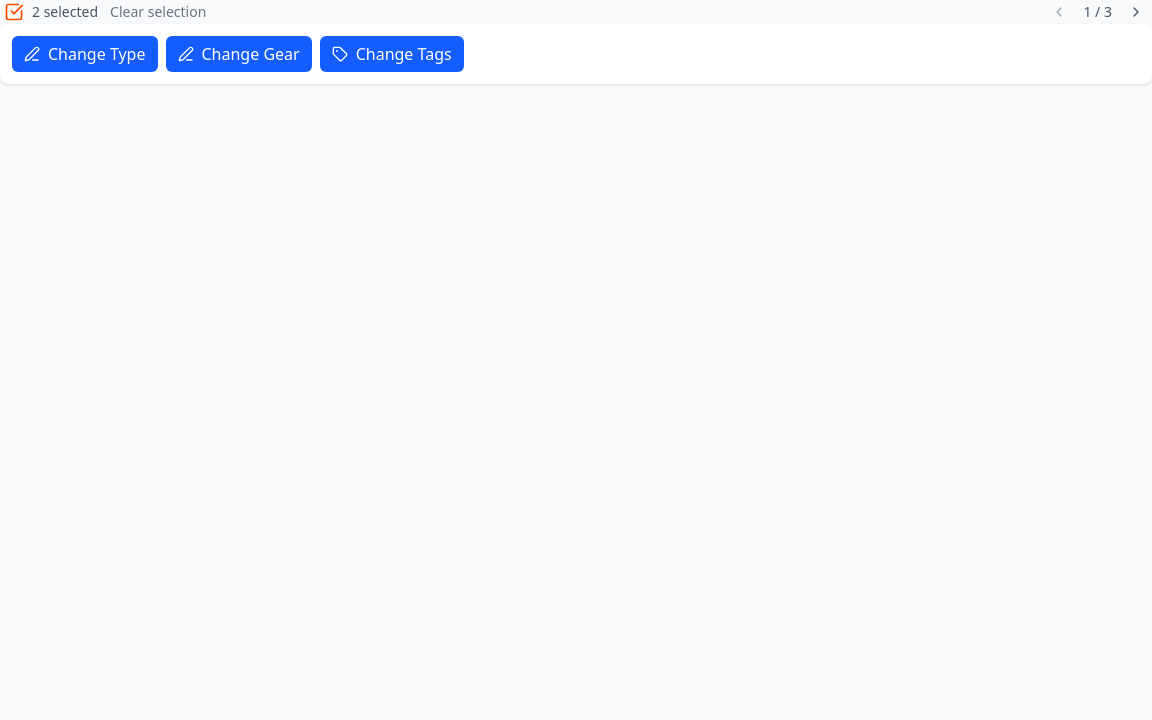
Test: BulkActions › Change Gear Modal › opens gear modal when Change Gear is clicked
Click the button "Change Gear" at (239, 54), box [166,36,312,72]
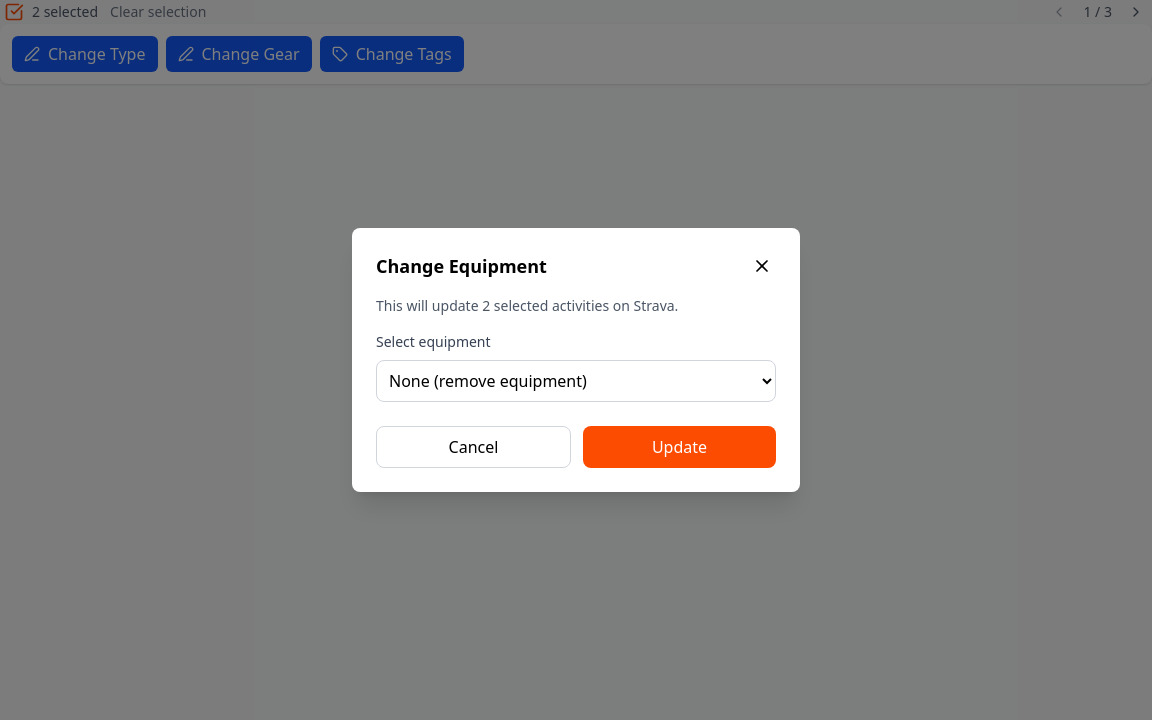
expect the heading "Change Equipment" is shown: met, box [376,252,547,280]
